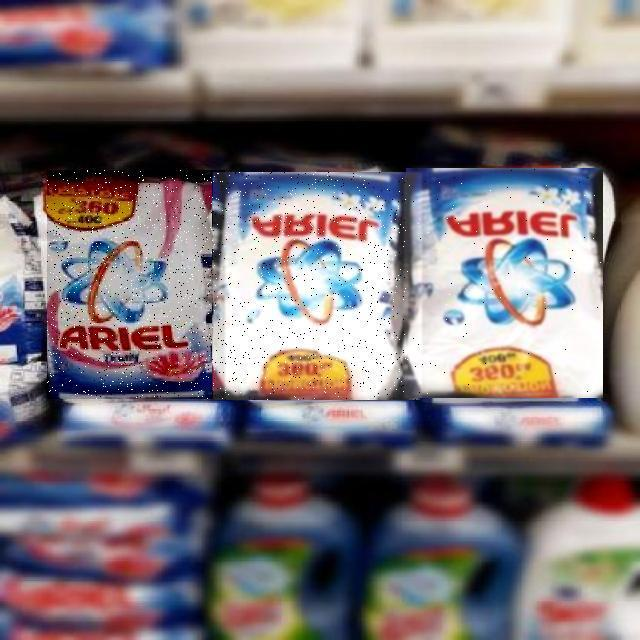Detergent: (216, 172, 422, 400), (406, 168, 603, 398), (48, 170, 228, 399)
